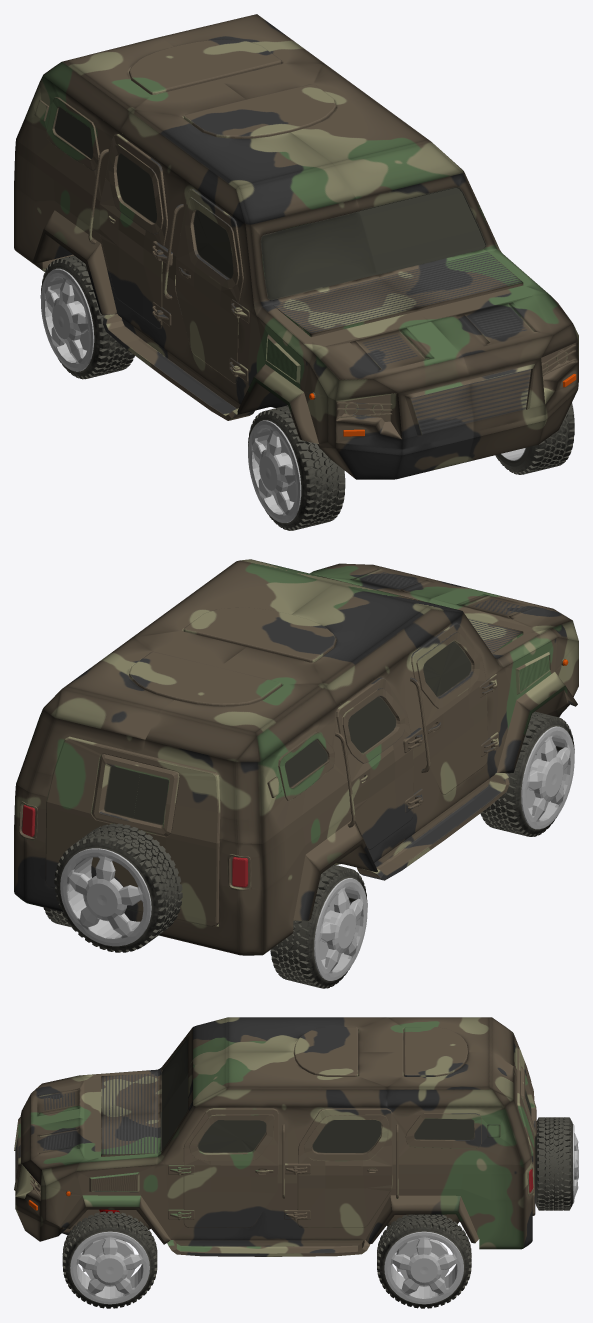
3 renders of one model, top to bottom at view 1: azimuth 30°, elevation 25°; view 2: azimuth 150°, elevation 25°; view 3: azimuth 270°, elevation 25°, orthographic. The views are drawn at different scales.
Visible parts, largest first — view 1: cobra:cobra.001, cobra:polySurface14.001, cobra:polySurface6.001; view 2: cobra:cobra.001, cobra:polySurface15.001, cobra:polySurface6.001, cobra:polySurface14.001; view 3: cobra:cobra.001, cobra:polySurface16.001, cobra:polySurface15.001.
Part boxes in pixels (box(x1,y1,x2,y2)): cobra:cobra.001: box(14, 14, 578, 479); cobra:polySurface14.001: box(248, 405, 345, 530); cobra:polySurface6.001: box(40, 255, 134, 379); cobra:cobra.001: box(14, 559, 578, 955); cobra:polySurface15.001: box(54, 823, 182, 952); cobra:polySurface6.001: box(270, 864, 367, 988); cobra:polySurface14.001: box(480, 711, 574, 836); cobra:cobra.001: box(14, 1017, 536, 1308); cobra:polySurface16.001: box(377, 1214, 471, 1308); cobra:polySurface15.001: box(535, 1117, 578, 1210).
Size of the model in its own units: 1454 by 1340 by 3282.
1 material, 1 textured.
